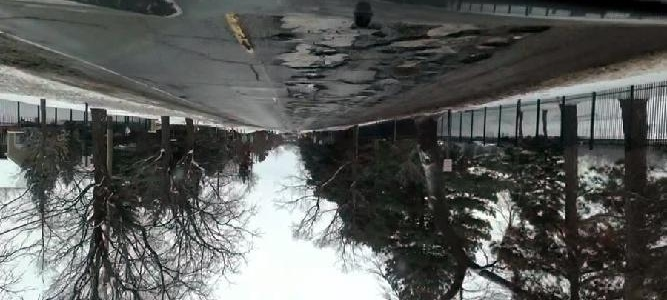pothole: (508, 22, 550, 38), (459, 49, 492, 66), (378, 46, 430, 55), (350, 13, 373, 28), (290, 72, 324, 82), (312, 46, 338, 57)
